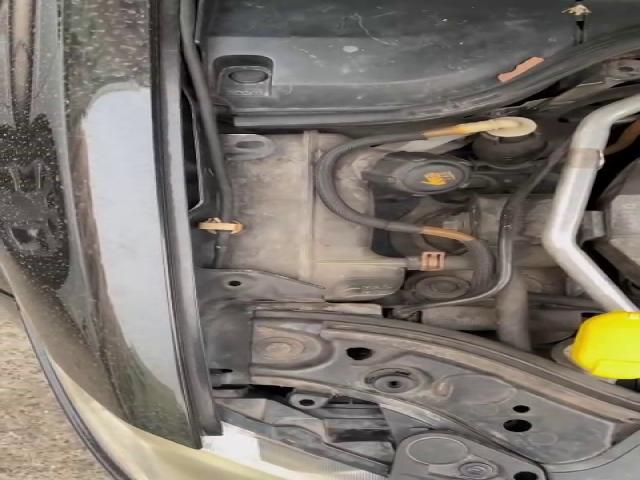antifreeze_tank: (227, 131, 406, 300), (336, 148, 470, 213)
